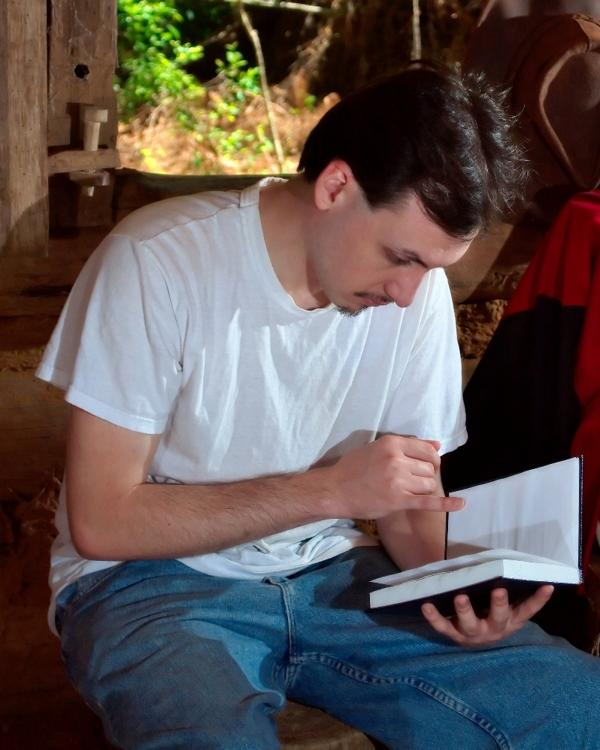person: (38, 63, 600, 747)
